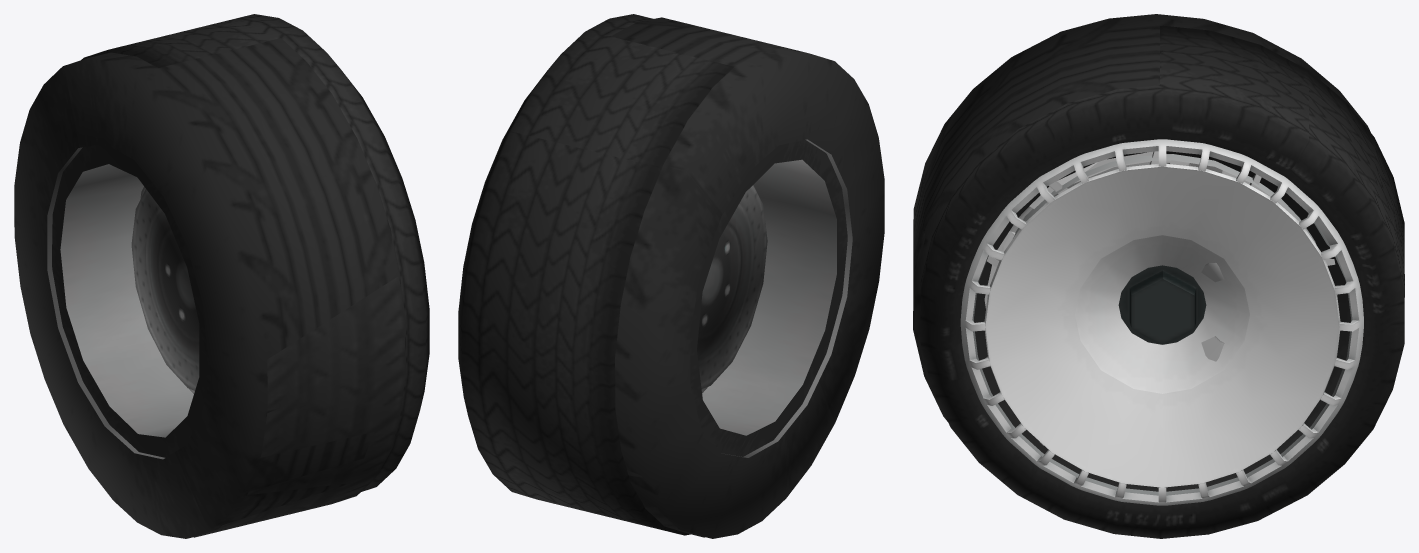
Rendered from tires-2.fbx.
3 renders of one model, left to right at view 1: azimuth 30°, elevation 25°; view 2: azimuth 150°, elevation 25°; view 3: azimuth 270°, elevation 25°, orthographic.
Parts seen in each view (by area): view 1: Tire (×2); view 2: Tire (×2); view 3: Tire (×2).
Boxes of the visible parts, x1,y1,x2,y2 form: Tire (×2): (14,14,429,538); Tire (×2): (458,14,884,538); Tire (×2): (913,14,1404,538).
Size of the model in its own units: 33.02 by 70.28 by 70.64.
Materials: 3 (3 with a texture image).
